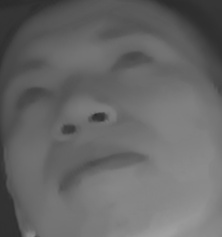eye: (108, 42, 157, 75), (17, 79, 56, 110)
mouth: (55, 136, 149, 198)
